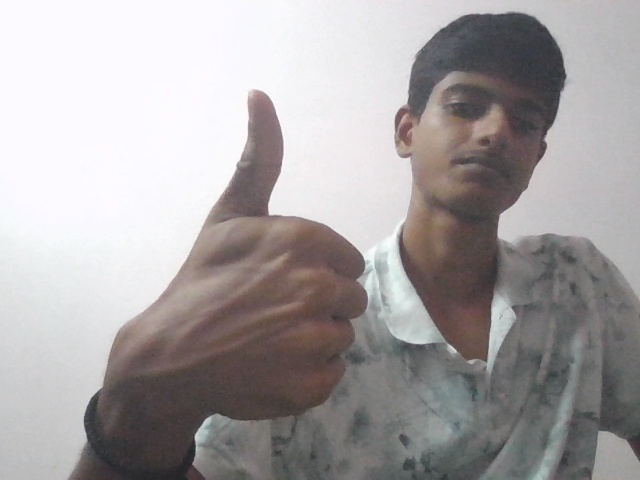thanks: (110, 66, 376, 435)
